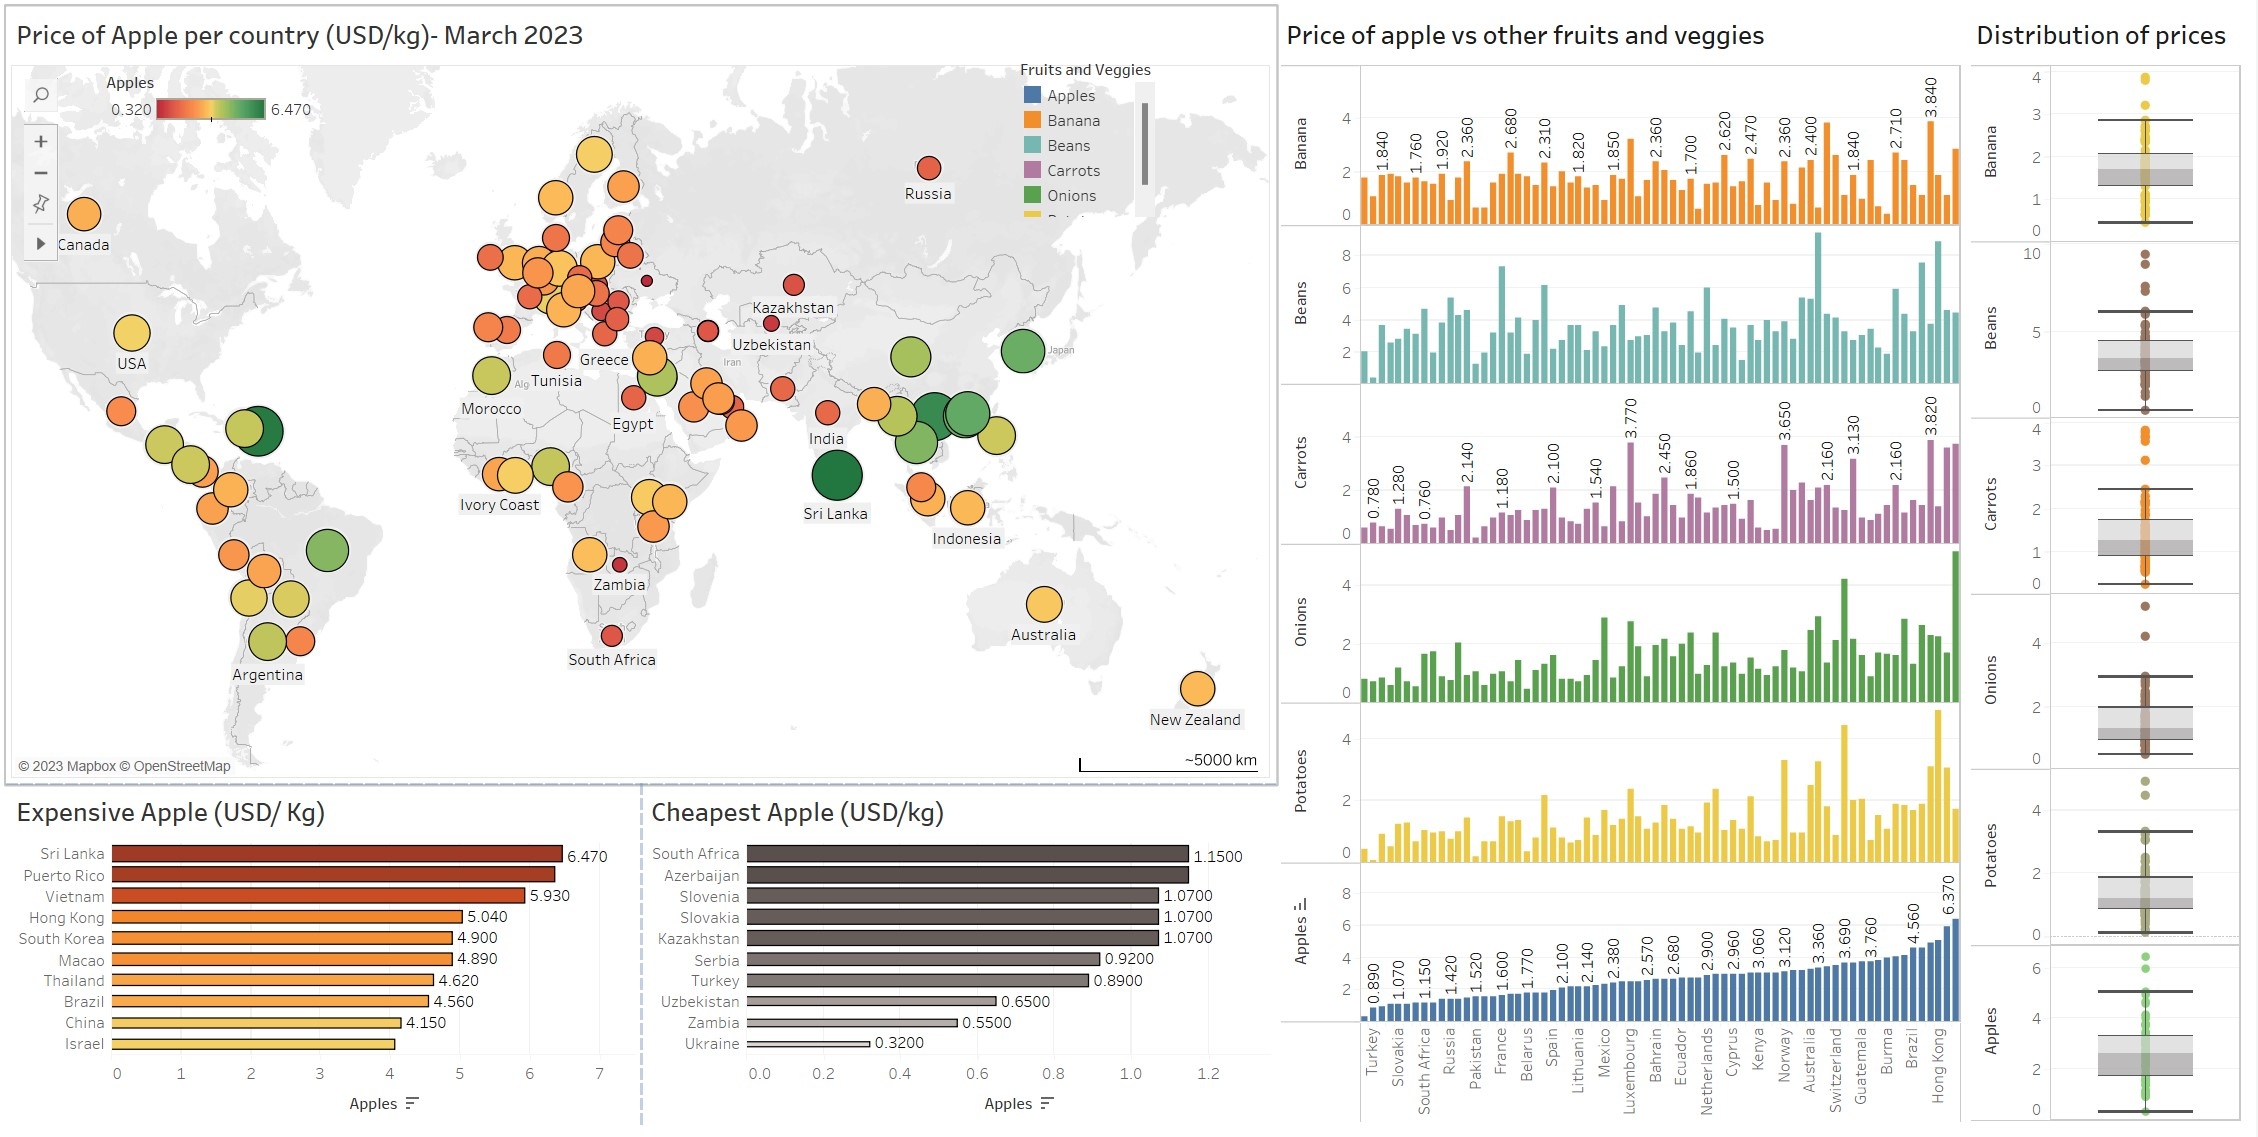

Layout of this report page (visuals, bound fields, positions):
{"tool":"tableau","page":{"name":"Dashboard 1","canvas":[1000,1000],"units":"permille","ordinal":0},"visuals":[{"type":"worksheet","title":"Price of Apple","mark":"Automatic","box":[3.5,6.9,527.1,636.3]},{"type":"worksheet","title":"Apple versus fruits","mark":"Automatic","rows":["Banana","Beans","Carrots","Onions","Potatoes","Apples"],"cols":["Countries"],"box":[530.7,6.9,465.8,986.2]},{"type":"legend","title":"Apple versus fruits","param":"[federated.1w48djj1qxf57s13enqvi13m3jq1].[:Measure Names]","box":[453.3,54.5,60.9,138.3]},{"type":"legend","title":"Price of Apple","param":"[federated.1w48djj1qxf57s13enqvi13m3jq1].[sum:Apples:qk]","box":[48.8,65.2,93.6,47.1]},{"type":"worksheet","title":"Top 10","mark":"Automatic","rows":["Countries"],"cols":["Apples"],"box":[3.5,643.2,263.6,349.9]},{"type":"worksheet","title":"Bottom 10","mark":"Automatic","rows":["Countries"],"cols":["Apples"],"box":[267.1,643.2,263.6,349.9]}]}

Visuals, with their boxes on the dashboard's canvas, which has no fixed pixel size, in thousandths of its width and height (x1, y1, x2, y2). These are canvas units, not pixel positions in the 2258x1137 screenshot, which may show the page scaled, cropped or inside an application window:
"Price of Apple" worksheet: BBox(4, 7, 531, 643)
"Apple versus fruits" worksheet: BBox(531, 7, 996, 993)
"Apple versus fruits" legend: BBox(453, 54, 514, 193)
"Price of Apple" legend: BBox(49, 65, 142, 112)
"Top 10" worksheet: BBox(4, 643, 267, 993)
"Bottom 10" worksheet: BBox(267, 643, 531, 993)
